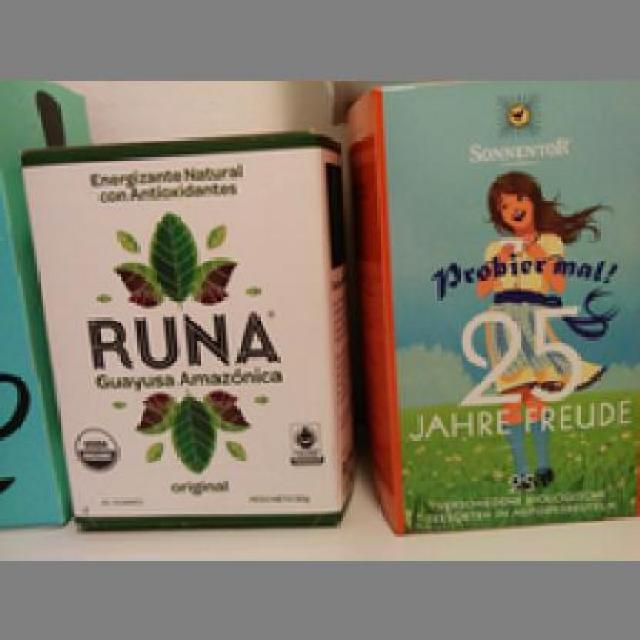Tea: (17, 126, 352, 532), (343, 79, 634, 532)
